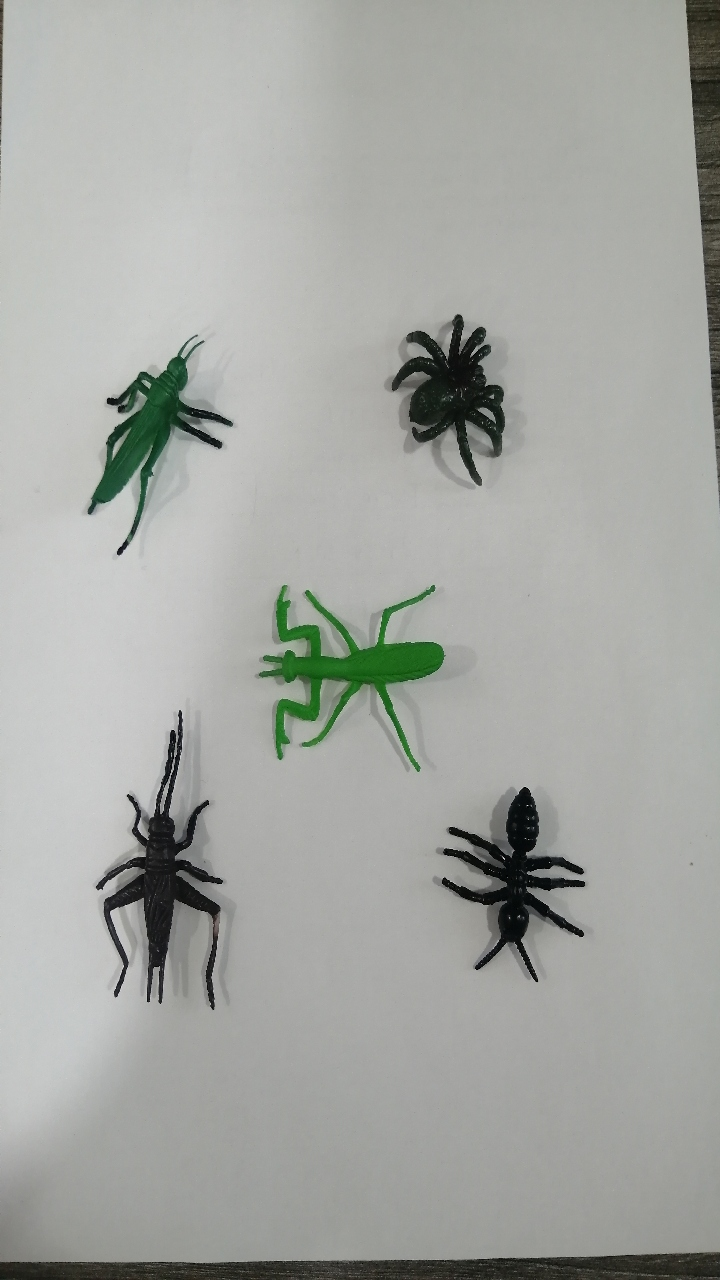intruso: (57, 699, 252, 1039), (44, 295, 248, 575), (408, 763, 615, 1023), (235, 554, 449, 783), (354, 285, 541, 523)
